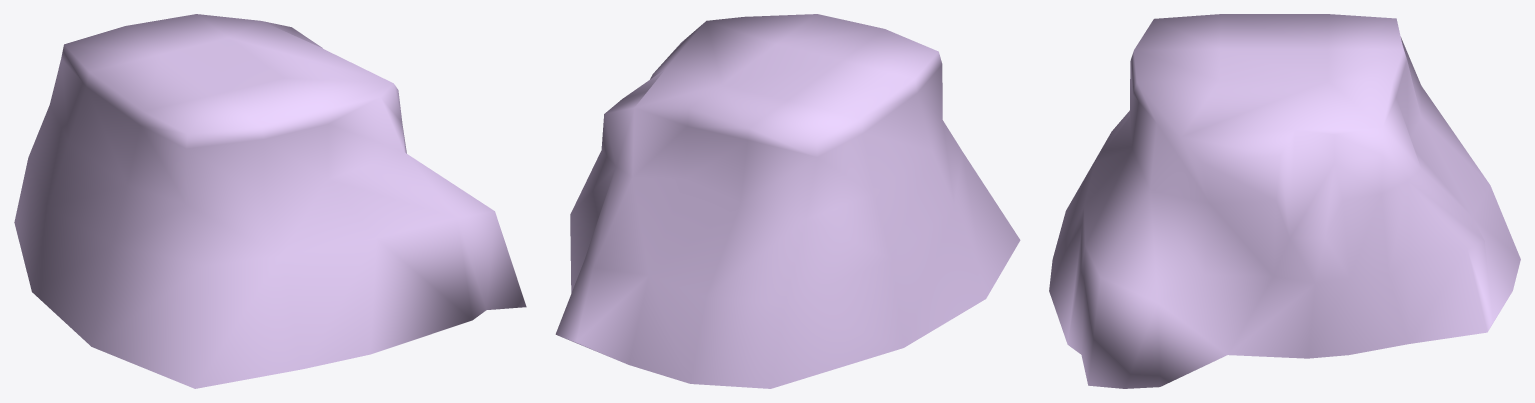
File: GreenHillRockCollision.obj
3 renders of one model, left to right at view 1: azimuth 30°, elevation 25°; view 2: azimuth 150°, elevation 25°; view 3: azimuth 270°, elevation 25°, orthographic.
Bounding box in the file's own units: 21.4 × 11.91 × 23.08.
